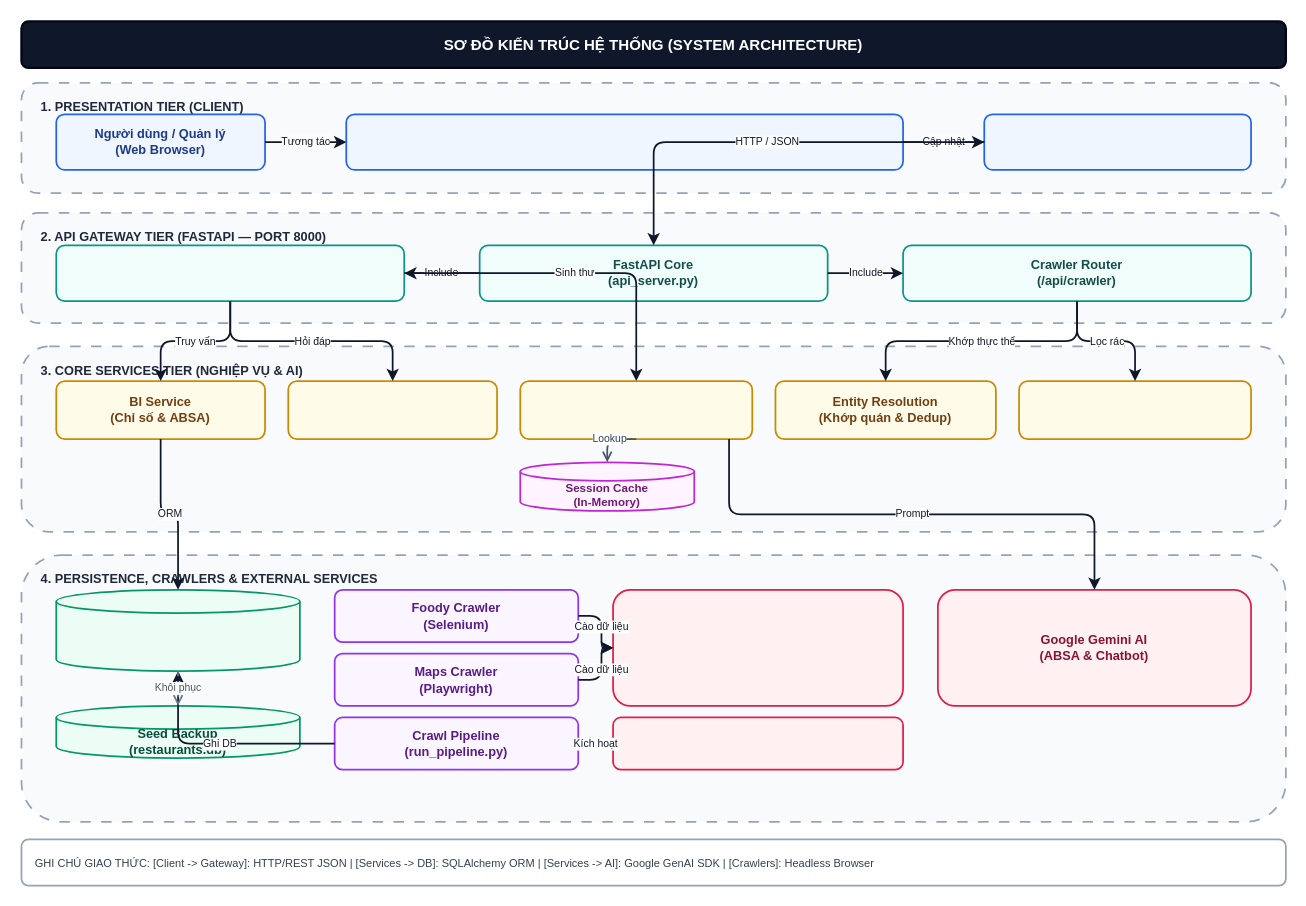
The diagram is 1306 pixels wide and 906 high, and some of its shapes have lost their labels. The centre of each missing label's shape, as x and y in pixels:
API Client (Fetch JSON): pixel 1117 141
Assistant Service (Trợ lý F&B): pixel 392 409
Frontend SPA (React 19 + TypeScript): pixel 624 141
GitHub Actions (Lập lịch Cron): pixel 757 743
Nền tảng Đánh giá (Foody.vn & Google Maps): pixel 757 647
Reply Service (Sinh phản hồi & Voucher): pixel 636 409
Restaurants Router (/api/restaurants): pixel 230 272
Review Filter (Lọc spam): pixel 1134 409
SQLite Database (WAL Mode): pixel 177 629
